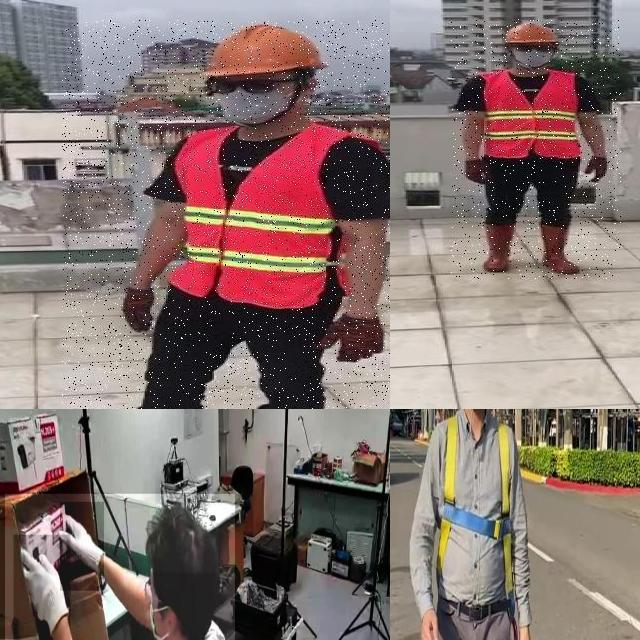Harness: (438, 417, 514, 598)
boots: (540, 226, 586, 273), (484, 221, 516, 271)
hand_glove: (13, 534, 70, 640), (60, 502, 104, 590)
head_helmet: (200, 24, 334, 82), (498, 18, 560, 46)
head_nohelmet: (150, 502, 220, 574)
person: (62, 20, 390, 409), (451, 20, 621, 279), (4, 493, 235, 640)
vest: (166, 125, 352, 309), (482, 72, 580, 157)
